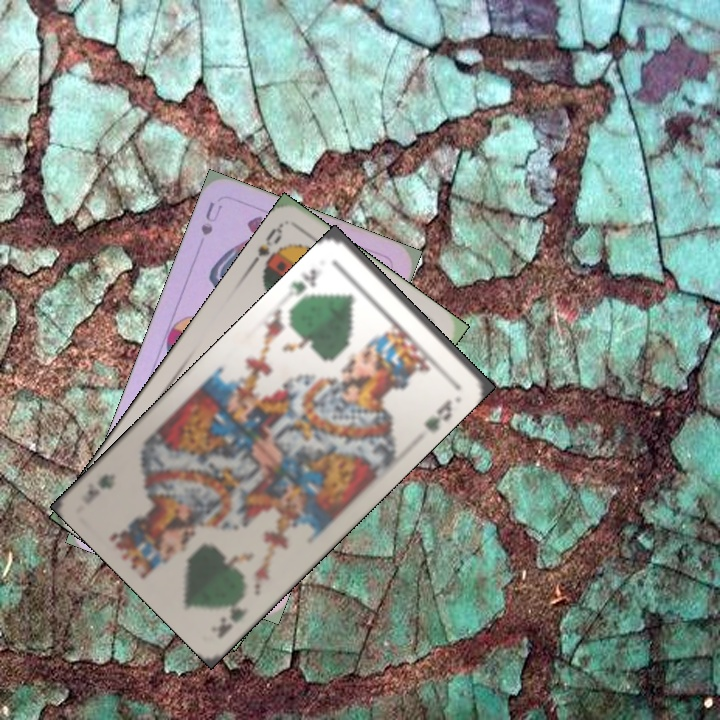GK: (207, 600, 251, 640), (284, 264, 320, 299)
SO: (244, 221, 289, 280)
SU: (196, 197, 225, 238)
